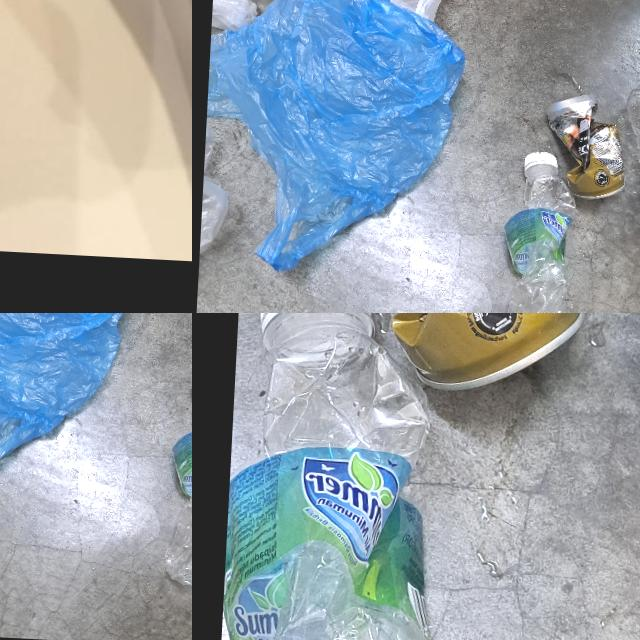garrafa de vidro: (68, 0, 192, 189)
garrafa plástica: (220, 313, 458, 640), (547, 313, 640, 566), (492, 168, 571, 313), (160, 390, 192, 583), (617, 75, 640, 296)
lata: (303, 313, 602, 401), (546, 96, 622, 196)
sacola plástica: (200, 0, 468, 264), (0, 313, 136, 486)
tampa plástica: (258, 313, 377, 341)
